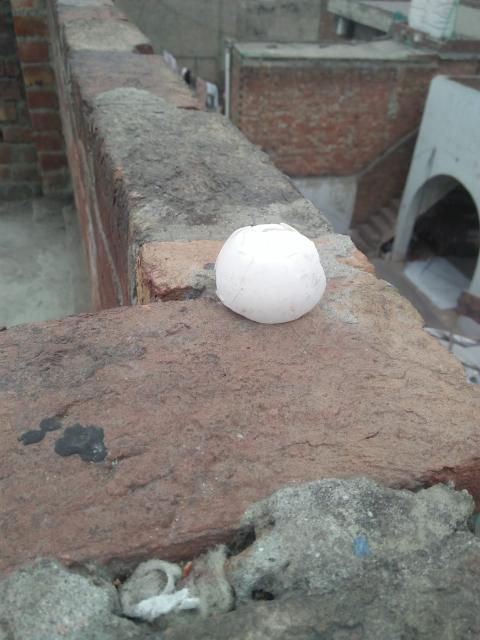Roto: (213, 221, 328, 325)
